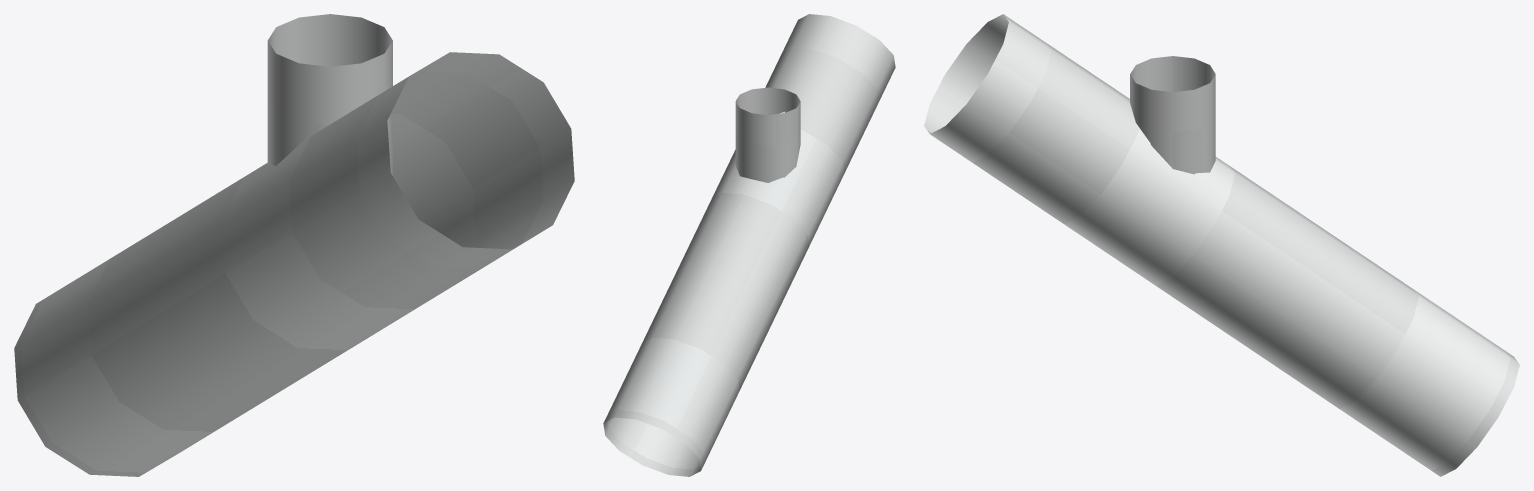
Rendered from luminairearm_truss10ftstraightdouble_c11.obj.
The picture shows the model from 3 angles, left to right: view 1: azimuth 30°, elevation 25°; view 2: azimuth 150°, elevation 25°; view 3: azimuth 270°, elevation 25°; orthographic projection. The views are drawn at different scales.
Parts seen in each view (by area): view 1: luminairearm_truss10ftstraightdouble_c11; view 2: luminairearm_truss10ftstraightdouble_c11; view 3: luminairearm_truss10ftstraightdouble_c11.
Part boxes in pixels (left/top/right/bottom): luminairearm_truss10ftstraightdouble_c11: left=14, top=14, right=574, bottom=476; luminairearm_truss10ftstraightdouble_c11: left=603, top=14, right=895, bottom=476; luminairearm_truss10ftstraightdouble_c11: left=924, top=14, right=1519, bottom=476.
Size of the model in its own units: 0.1562 by 0.5396 by 0.6523.
